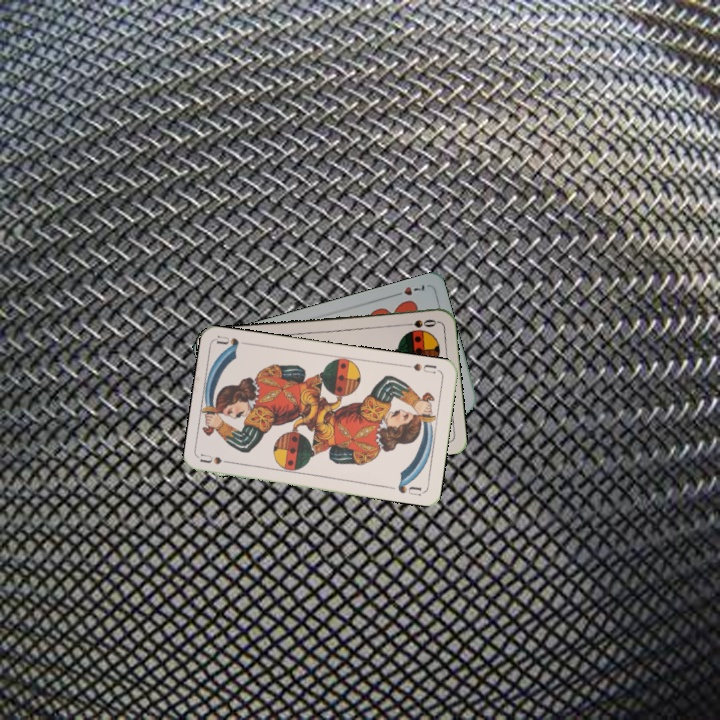H7: (389, 280, 428, 299)
SO: (399, 315, 439, 330)
SU: (197, 450, 238, 467), (401, 359, 439, 376)
